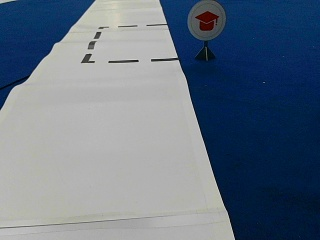school: (187, 1, 225, 39)
